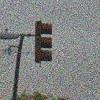traffic lights: (34, 21, 54, 64)
